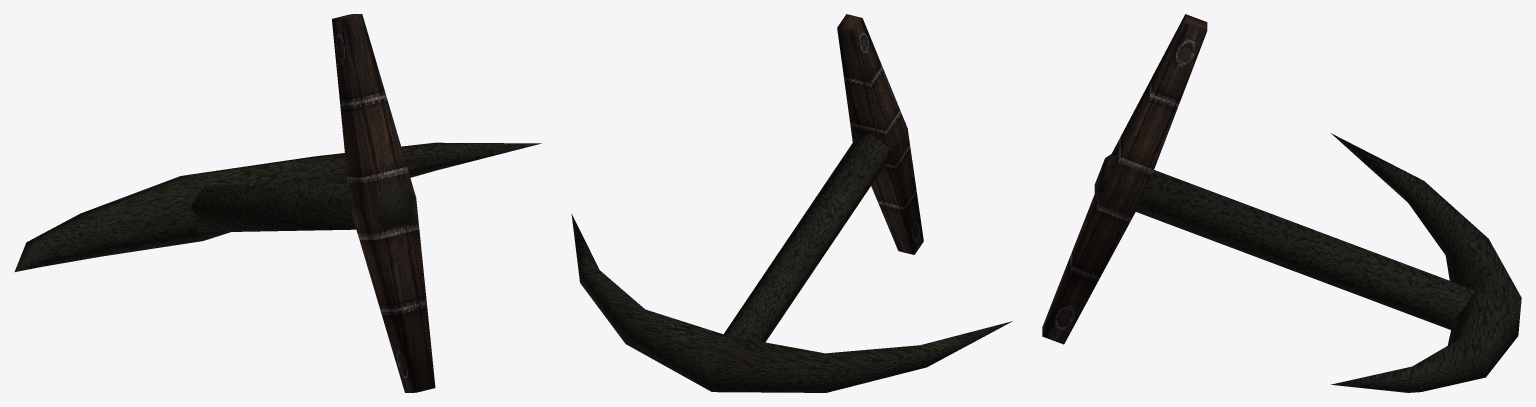
Rendered from ANCHOR_ACTORDEF.fbx.
3 renders of one model, left to right at view 1: azimuth 30°, elevation 25°; view 2: azimuth 150°, elevation 25°; view 3: azimuth 270°, elevation 25°, orthographic. The views are drawn at different scales.
Visible parts, largest first — view 1: U3DMesh; view 2: U3DMesh; view 3: U3DMesh.
Part boxes in pixels (box(x1,y1,x2,y2)): U3DMesh: box(14, 14, 541, 392); U3DMesh: box(571, 14, 1012, 392); U3DMesh: box(1042, 14, 1521, 392).
Size of the model in its own units: 11.1 by 6.71 by 8.92.
